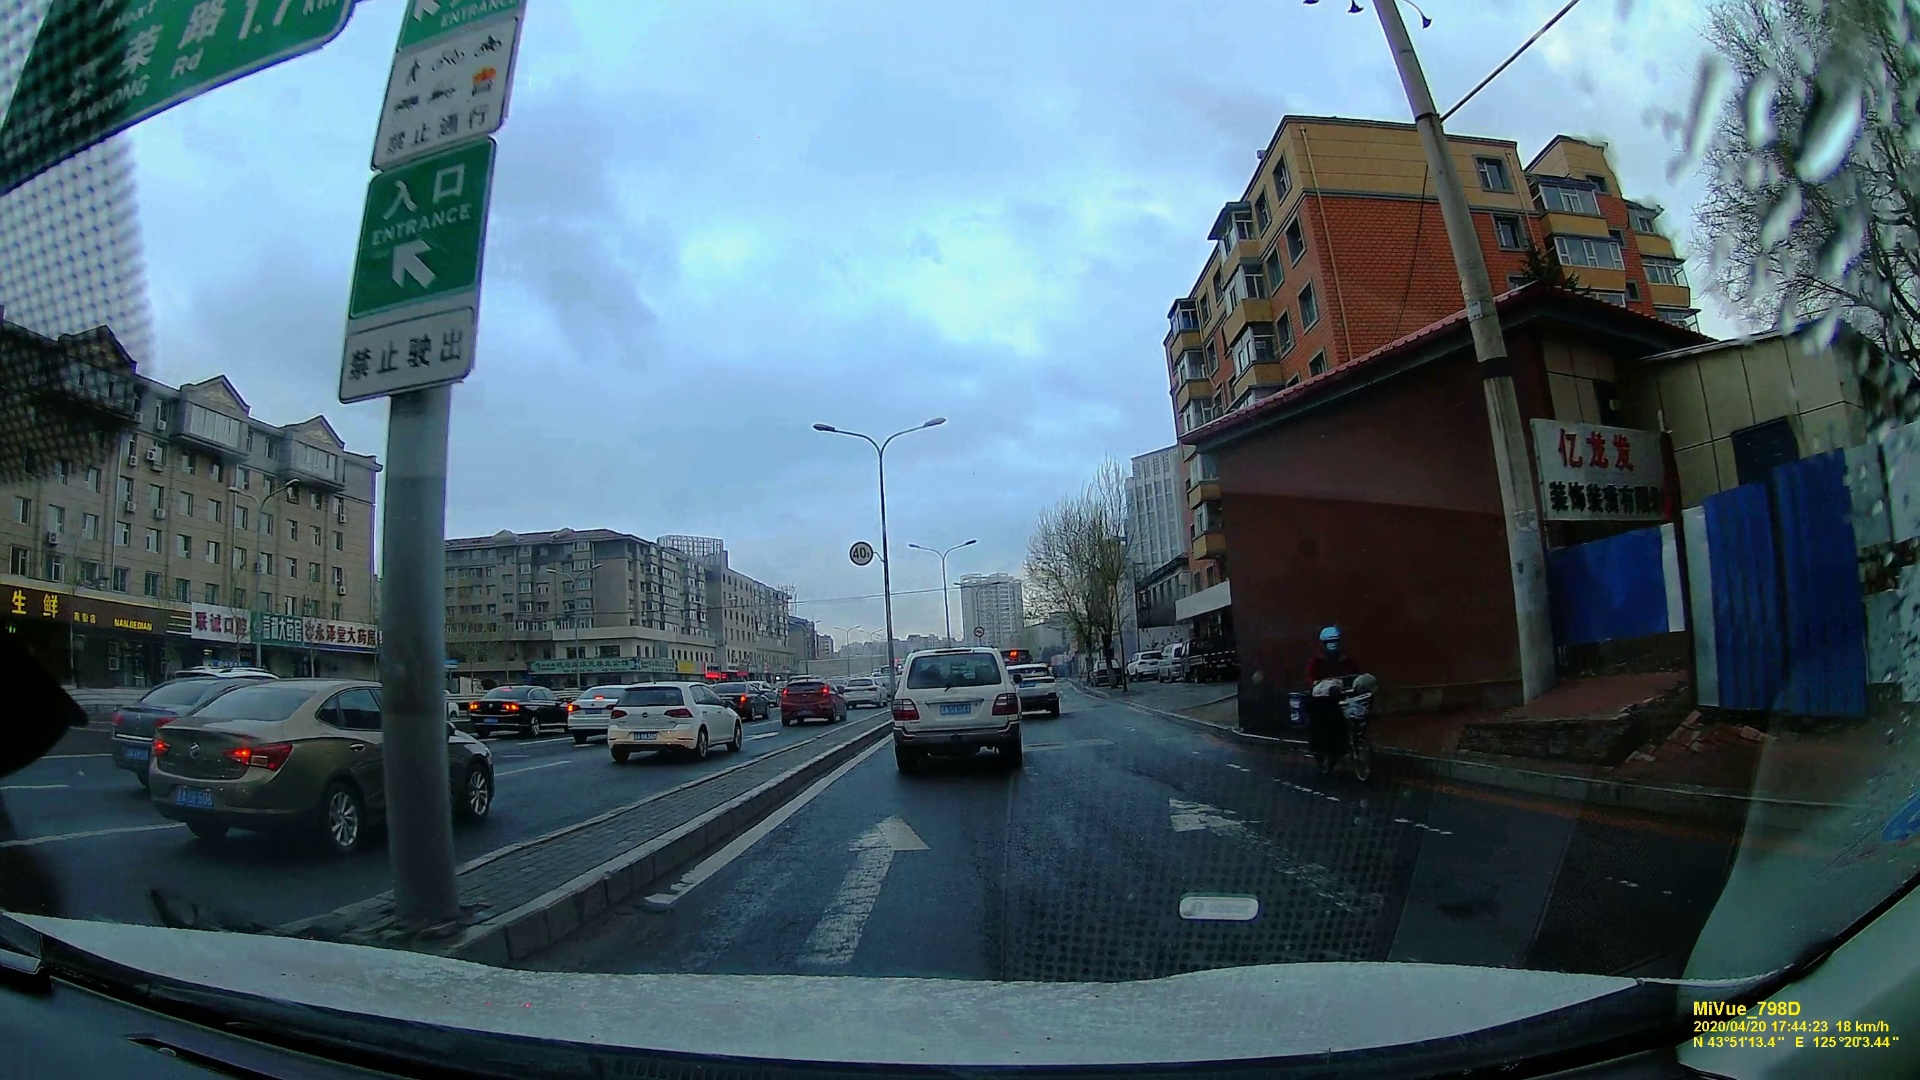person: (1283, 624, 1385, 792)
traffic_sign: (339, 11, 528, 414), (848, 537, 870, 569)
vehicle: (131, 672, 402, 853), (888, 644, 1034, 773), (103, 668, 267, 782), (599, 687, 741, 758), (464, 685, 563, 735), (778, 677, 849, 725)
